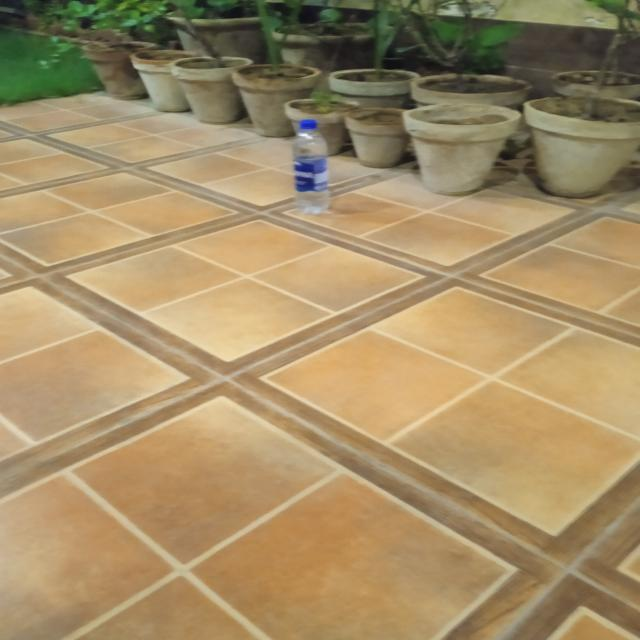Plastic: (285, 115, 334, 218)
